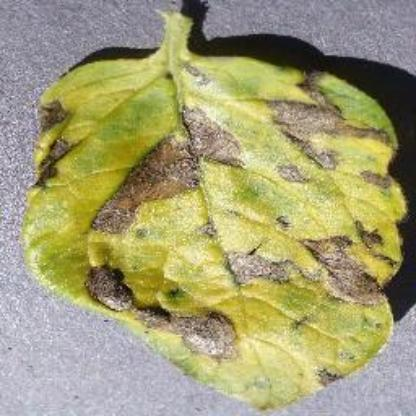Early-Blight: (23, 8, 410, 408)
